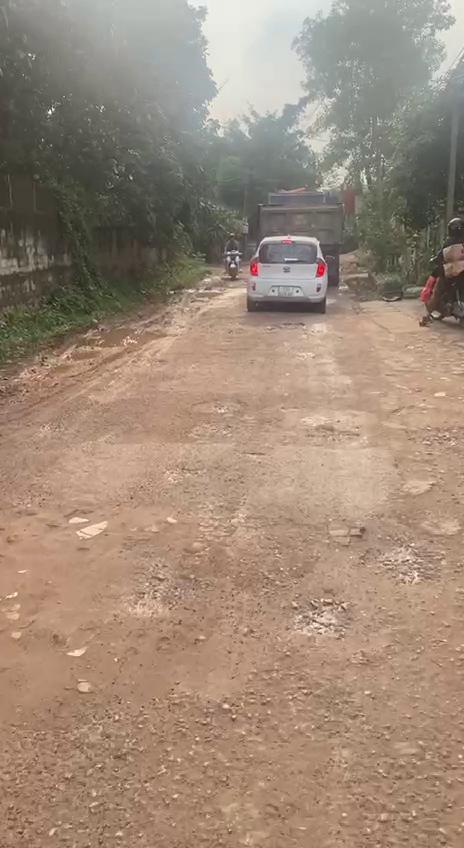pothole: (367, 534, 446, 588), (126, 558, 192, 622), (288, 592, 357, 644), (305, 423, 360, 445), (190, 398, 248, 418)
